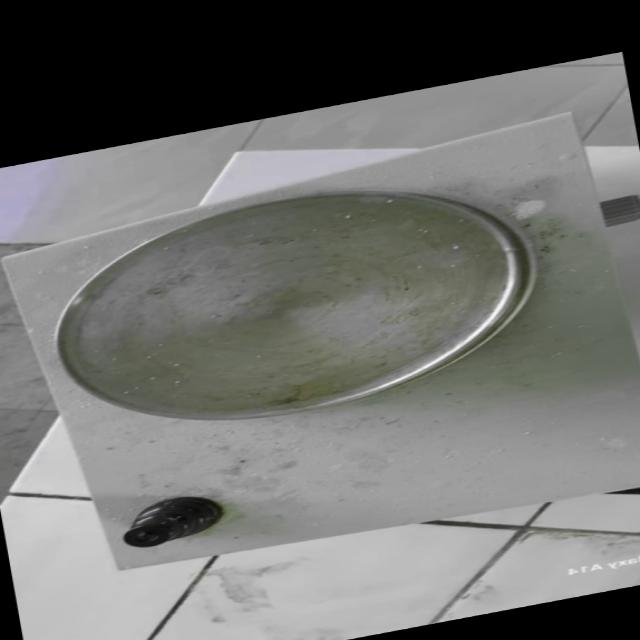Magnetic Stirrer: (0, 103, 640, 610)
